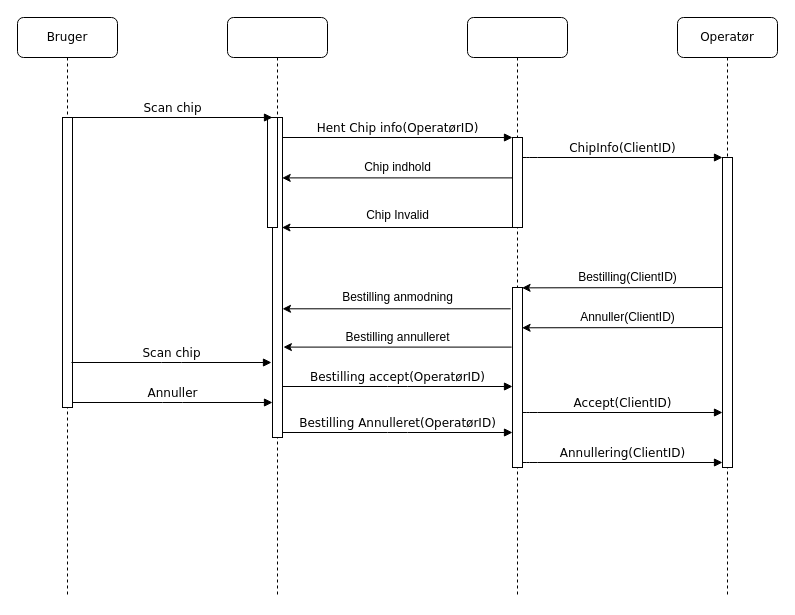
Image size: 795x615. Some labels were removed from this diagram. The box of each missing label's shape, as (x1, y1, x2, y2) in pixels:
Client: (226, 16, 328, 598)
Server: (466, 16, 568, 598)
